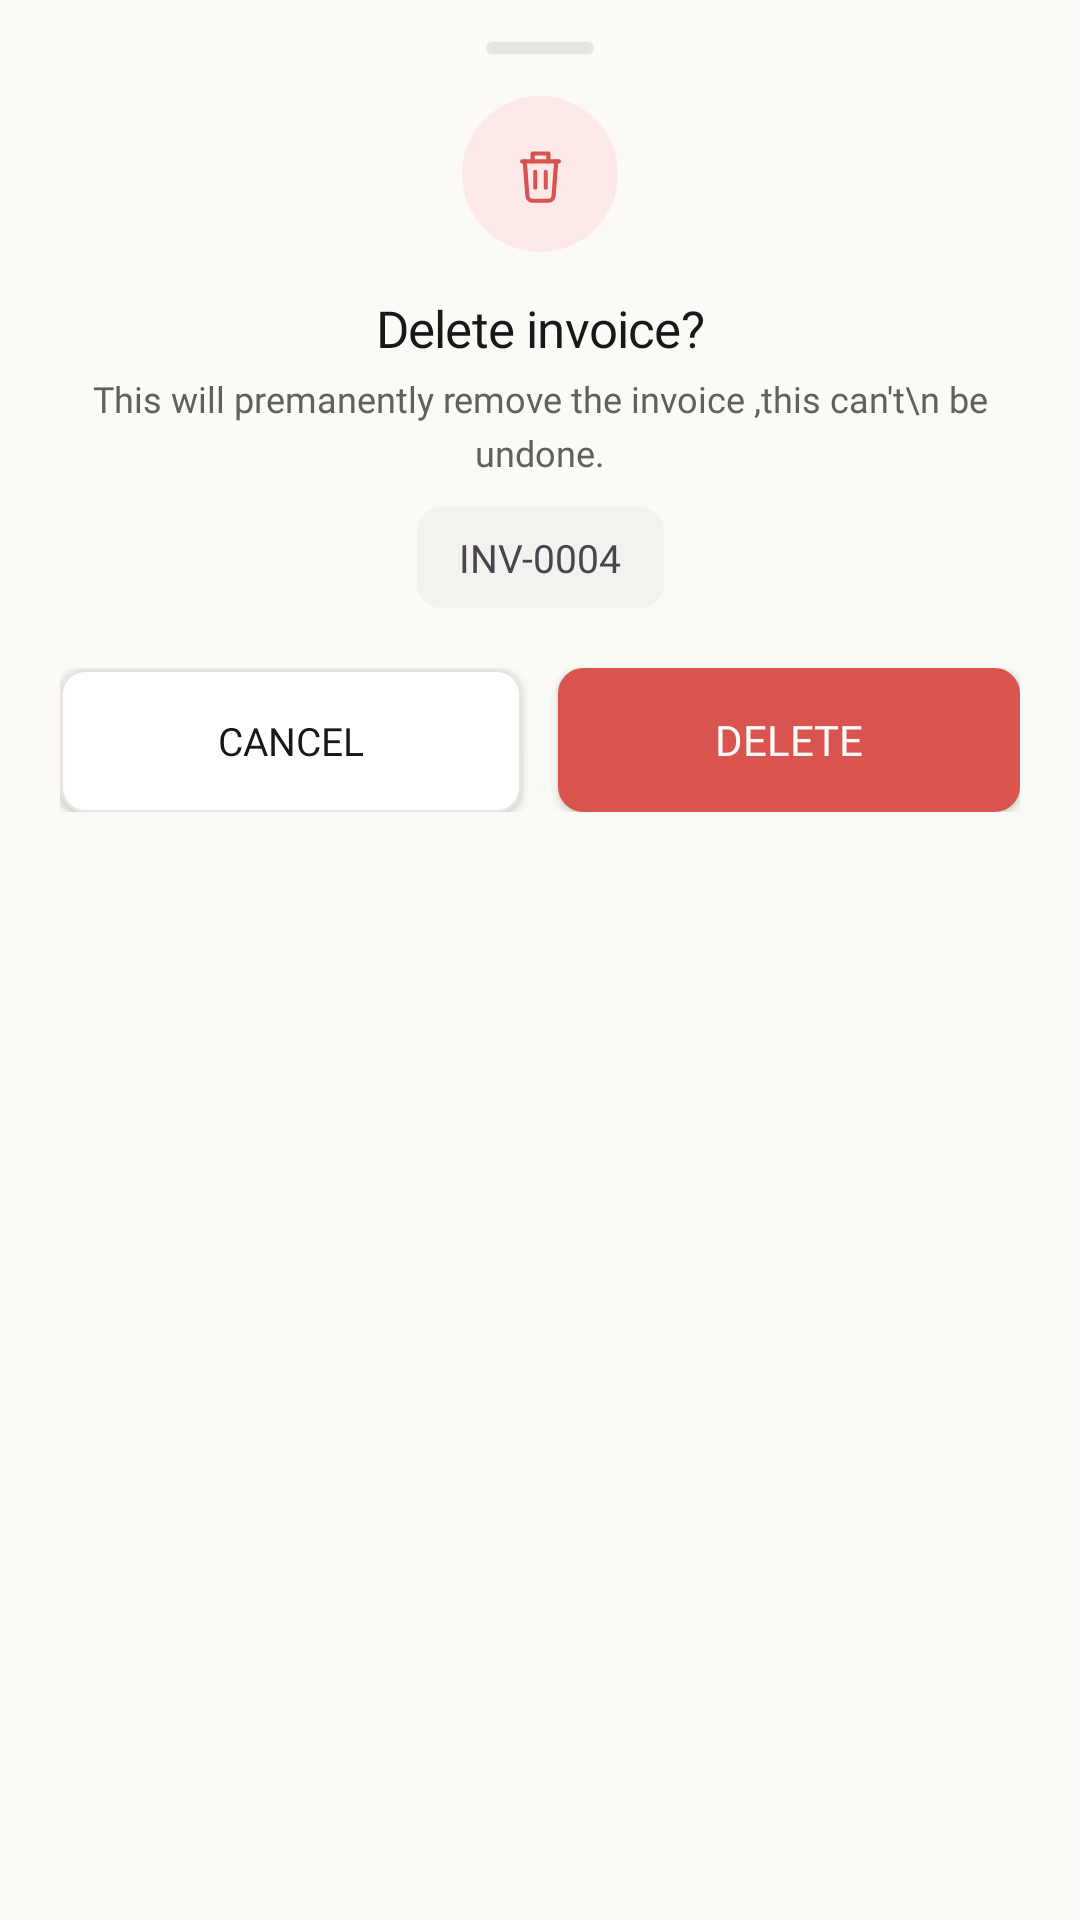

Where to tap for icons on this 1080 × 1920 app screen, as (x=x, y=y):
trash: (x=540, y=177)
